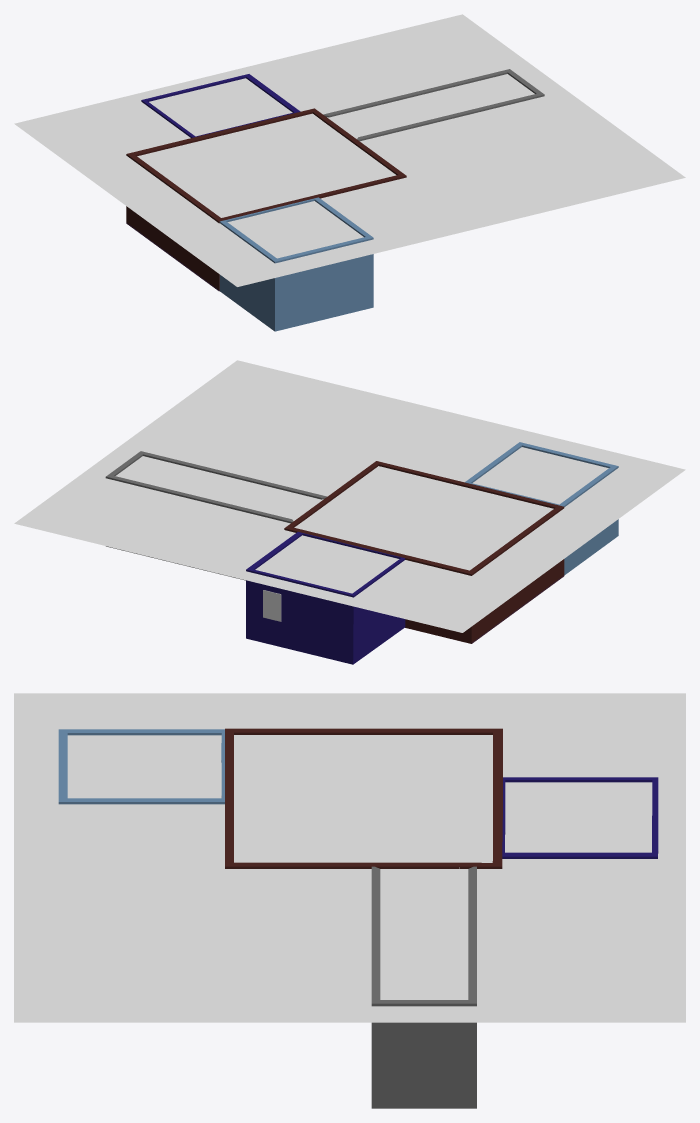
File: gamejam.fbx
3 renders of one model, top to bottom at view 1: azimuth 30°, elevation 25°; view 2: azimuth 150°, elevation 25°; view 3: azimuth 270°, elevation 25°, orthographic. The views are drawn at different scales.
Parts seen in each view (by area): view 1: Plane.028, bathroom, wall, ehe, Plane; view 2: Plane.028, Plane, wall, bathroom, ehe, Cube; view 3: Plane.028, ehe, wall, bathroom, Plane.
Boxes of the visible parts, left/top/right/bottom form: Plane.028: left=14, top=14, right=685, bottom=286; bathroom: left=219, top=197, right=373, bottom=331; wall: left=126, top=108, right=406, bottom=291; ehe: left=323, top=69, right=544, bottom=141; Plane: left=141, top=74, right=300, bottom=137; Plane.028: left=14, top=360, right=685, bottom=632; Plane: left=246, top=532, right=405, bottom=664; wall: left=284, top=461, right=564, bottom=643; bathroom: left=465, top=442, right=618, bottom=575; ehe: left=105, top=451, right=326, bottom=580; Cube: left=263, top=590, right=281, bottom=621; Plane.028: left=14, top=693, right=685, bottom=1022; ehe: left=371, top=866, right=476, bottom=1108; wall: left=225, top=728, right=502, bottom=868; bathroom: left=58, top=729, right=224, bottom=804; Plane: left=502, top=777, right=658, bottom=858.
Size of the model in its own units: 4396 by 662 by 3789.
